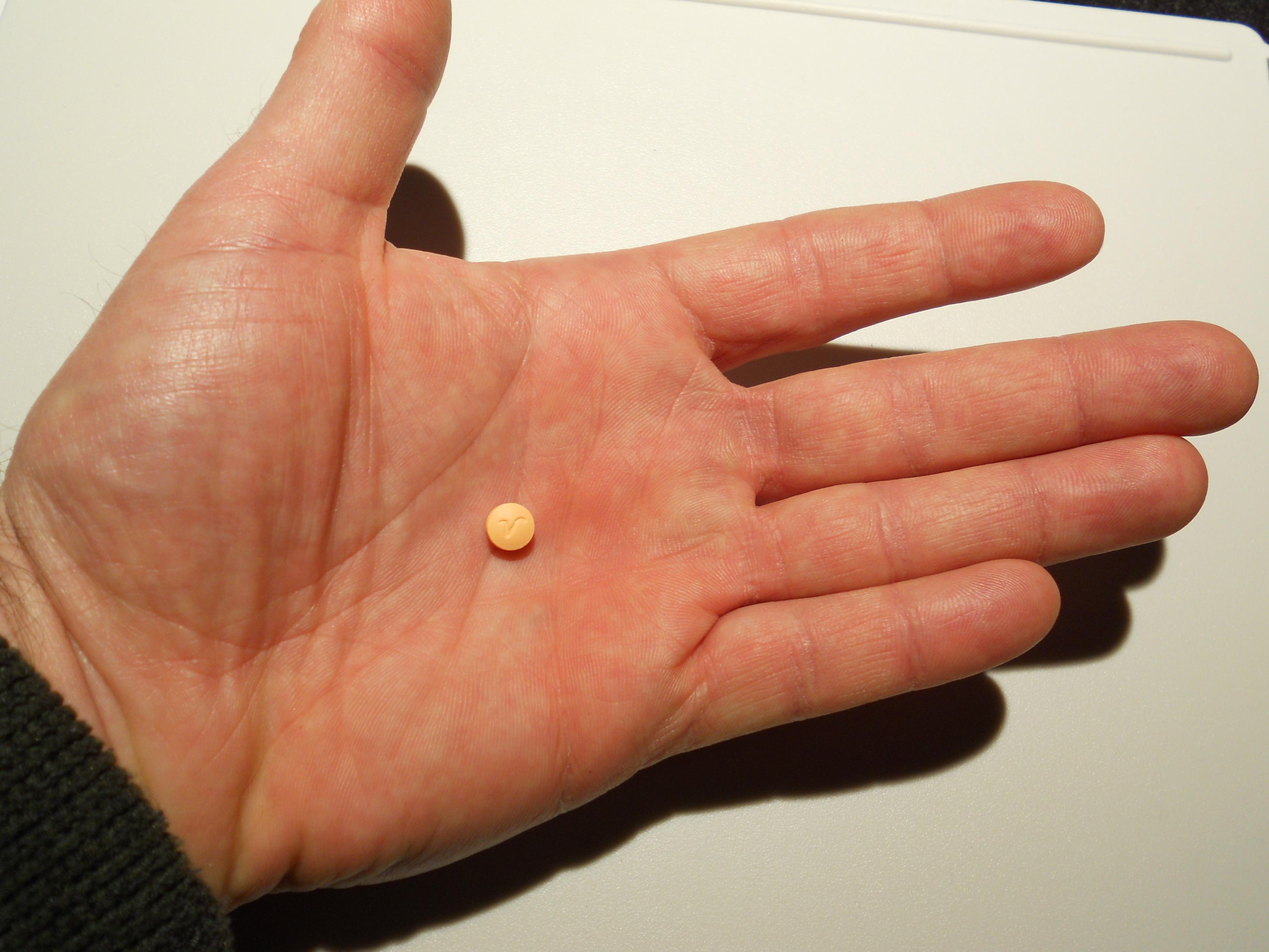Pill: (479, 492, 544, 563)
